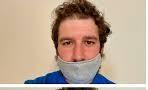Wore Mask Incorrectly: (30, 1, 116, 84)
